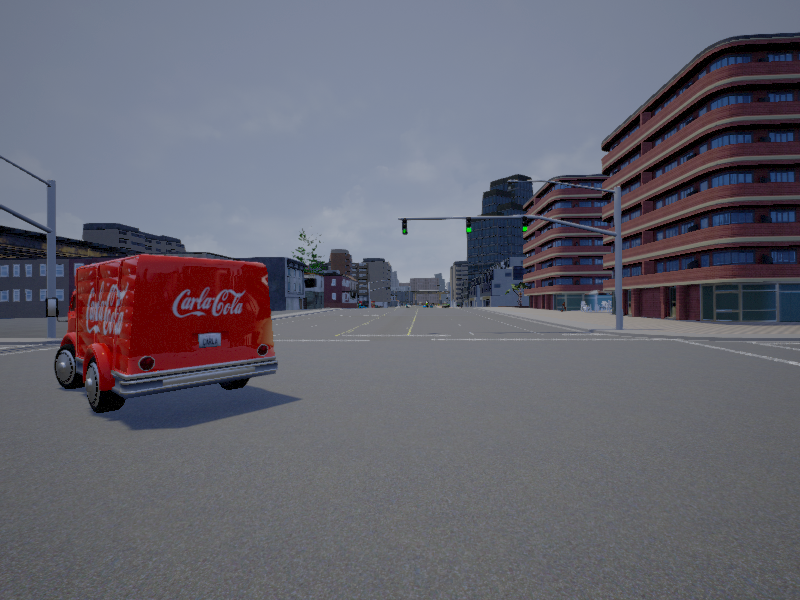Benign: (51, 257, 280, 415)
